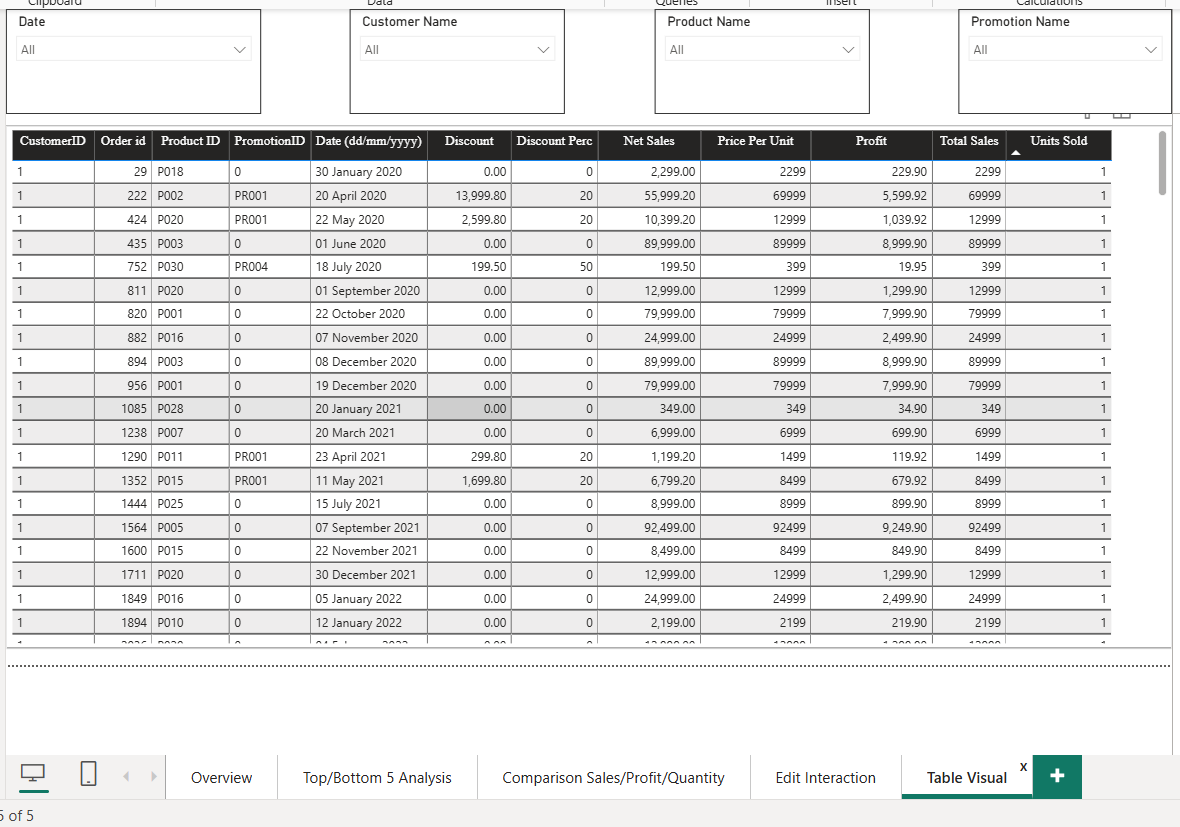

The dashboard page shown, as its layout file describes it:
{"tool":"powerbi","page":{"name":"Table Visual","canvas":[1280,720],"ordinal":4},"visuals":[{"type":"tableEx","fields":{"Values":["Fact Table.CustomerID","Fact Table.Order id","Fact Table.Product ID","Fact Table.PromotionID","Fact Table.Date (dd/mm/yyyy)","Fact Table.Discount","Fact Table.Discount Perc","Fact Table.Net Sales ","Fact Table.Price Per Unit","Fact Table.Profit","Fact Table.Total Sales","Fact Table.Units Sold"]},"box":[0,127.2,1280.3,574.7],"z":0},{"type":"slicer","fields":{"Values":["Date Table 1.Date"]},"box":[0,0,280,114.9],"z":1000},{"type":"slicer","fields":{"Values":["Dim Customers.Customer Name"]},"box":[377.9,0,236,114.9],"z":2000},{"type":"slicer","fields":{"Values":["Dim Product.Product Name"]},"box":[711.7,0,236,114.9],"z":3000},{"type":"slicer","fields":{"Values":["Dim Promotion.Promotion Name"]},"box":[1045.5,0,234.8,114.9],"z":4000}]}

Visuals, with their boxes on the page's 1280x720 design canvas (x1, y1, x2, y2). These are canvas units, not pixel positions in the 1180x827 screenshot, which may show the page scaled, cropped or inside an application window:
tableEx - Fact Table.CustomerID x Fact Table.Order id: [0,127,1280,702]
slicer - Date Table 1.Date: [0,0,280,115]
slicer - Dim Customers.Customer Name: [378,0,614,115]
slicer - Dim Product.Product Name: [712,0,948,115]
slicer - Dim Promotion.Promotion Name: [1046,0,1280,115]
